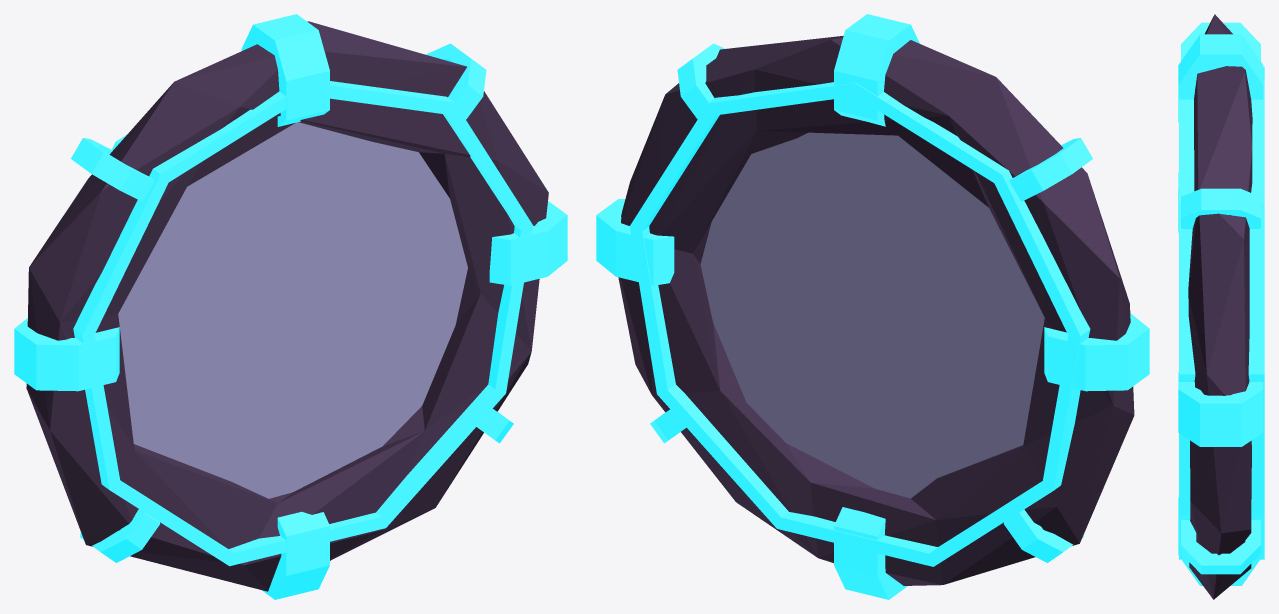
File: Portal.fbx
3 views of the same model, side by side, from view 1: azimuth 30°, elevation 25°; view 2: azimuth 150°, elevation 25°; view 3: azimuth 270°, elevation 25° (orthographic). The views are drawn at different scales.
Visible parts, largest first — view 1: Portalthing, Portal, Portalthing.001, Cube.003, Cube, Cube.002, Cube.001, Cube.007, Cube.004, Cube.006; view 2: Portalthing, Portal, Portalthing.002, Cube.003, Cube, Cube.002, Cube.001, Cube.007, Cube.006, Cube.004; view 3: Portal, Portalthing.002, Cube.002, Portalthing.001, Cube, Cube.005, Cube.004, Cube.007, Cube.001.
Boxes of the visible parts, bbox=[...] form: Portalthing: bbox=[118, 122, 467, 498]; Portal: bbox=[26, 21, 548, 591]; Portalthing.001: bbox=[73, 81, 533, 566]; Cube.003: bbox=[14, 318, 119, 391]; Cube: bbox=[241, 14, 329, 126]; Cube.002: bbox=[489, 201, 567, 285]; Cube.001: bbox=[262, 511, 329, 599]; Cube.007: bbox=[71, 138, 154, 201]; Cube.004: bbox=[426, 43, 486, 119]; Cube.006: bbox=[80, 509, 159, 562]; Portalthing: bbox=[700, 132, 1044, 498]; Portal: bbox=[618, 35, 1134, 585]; Portalthing.002: bbox=[629, 82, 1090, 566]; Cube.003: bbox=[1044, 313, 1149, 391]; Cube: bbox=[834, 14, 919, 126]; Cube.002: bbox=[596, 199, 674, 285]; Cube.001: bbox=[834, 507, 907, 599]; Cube.007: bbox=[1009, 138, 1092, 201]; Cube.006: bbox=[1004, 509, 1083, 562]; Cube.004: bbox=[677, 43, 725, 119]; Portal: bbox=[1188, 14, 1252, 599]; Portalthing.002: bbox=[1248, 66, 1264, 559]; Cube.002: bbox=[1178, 372, 1263, 446]; Portalthing.001: bbox=[1179, 99, 1195, 559]; Cube: bbox=[1178, 34, 1263, 122]; Cube.005: bbox=[1181, 520, 1260, 574]; Cube.004: bbox=[1181, 188, 1260, 228]; Cube.007: bbox=[1181, 22, 1260, 60]; Cube.001: bbox=[1178, 497, 1259, 585].
Bounding box in the file's own units: 376 × 378 × 55.54.
